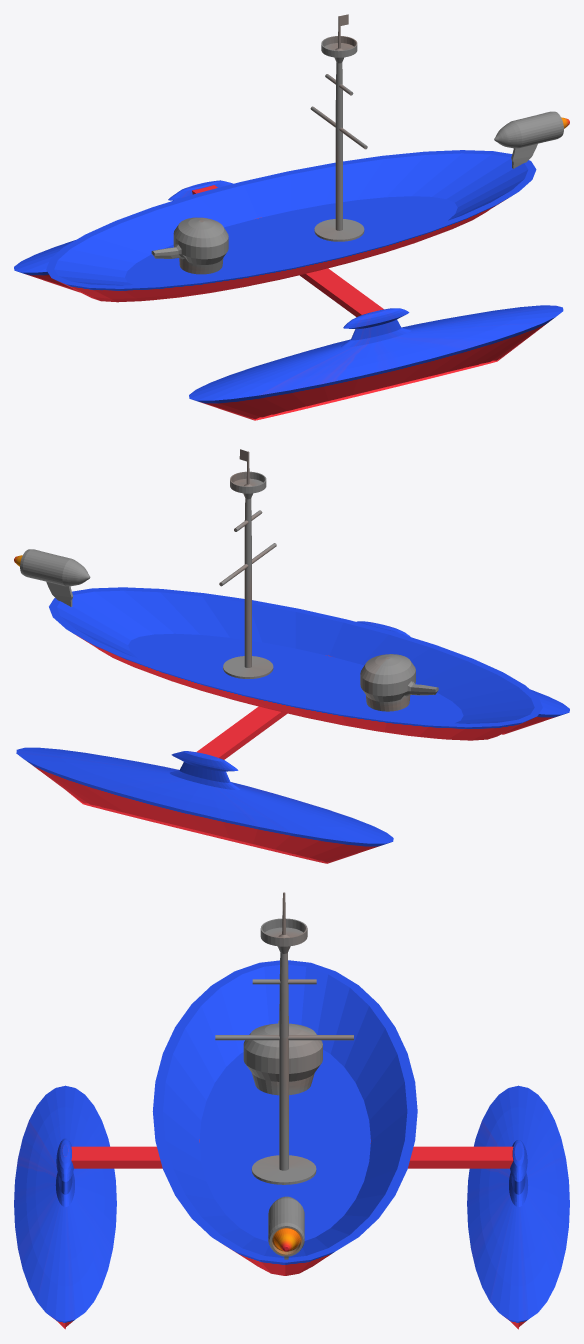
Rendered from Ship(Marshal).fbx.
The picture shows the model from 3 angles, top to bottom: view 1: azimuth 30°, elevation 25°; view 2: azimuth 150°, elevation 25°; view 3: azimuth 270°, elevation 25°; orthographic projection. The views are drawn at different scales.
Visible parts, largest first — view 1: Cylinder.002, Cylinder.001, Cylinder.003, Cylinder.006, Cylinder.007, Cylinder; view 2: Cylinder.002, Cylinder, Cylinder.003, Cylinder.006, Cylinder.007, Cylinder.001; view 3: Cylinder.002, Cylinder.001, Cylinder, Cylinder.003, Cylinder.006, Cylinder.007, Cylinder.005.
Part boxes in pixels (bbox=[...]): Cylinder.002: bbox=[46, 150, 536, 317]; Cylinder.001: bbox=[189, 305, 563, 420]; Cylinder.003: bbox=[314, 14, 364, 241]; Cylinder.006: bbox=[151, 217, 228, 274]; Cylinder.007: bbox=[494, 111, 569, 168]; Cylinder: bbox=[14, 180, 232, 292]; Cylinder.002: bbox=[49, 587, 542, 759]; Cylinder: bbox=[16, 747, 393, 863]; Cylinder.003: bbox=[223, 449, 273, 678]; Cylinder.006: bbox=[360, 654, 438, 711]; Cylinder.007: bbox=[14, 549, 90, 606]; Cylinder.001: bbox=[356, 621, 569, 734]; Cylinder.002: bbox=[71, 960, 513, 1275]; Cylinder.001: bbox=[14, 1085, 116, 1329]; Cylinder: bbox=[467, 1085, 569, 1329]; Cylinder.003: bbox=[251, 892, 316, 1184]; Cylinder.006: bbox=[243, 1021, 322, 1095]; Cylinder.007: bbox=[268, 1196, 304, 1259]; Cylinder.005: bbox=[215, 1035, 353, 1040].
Bounding box in the file's own units: 510 × 283 × 366.
Materials: 8 (8 with a texture image).
